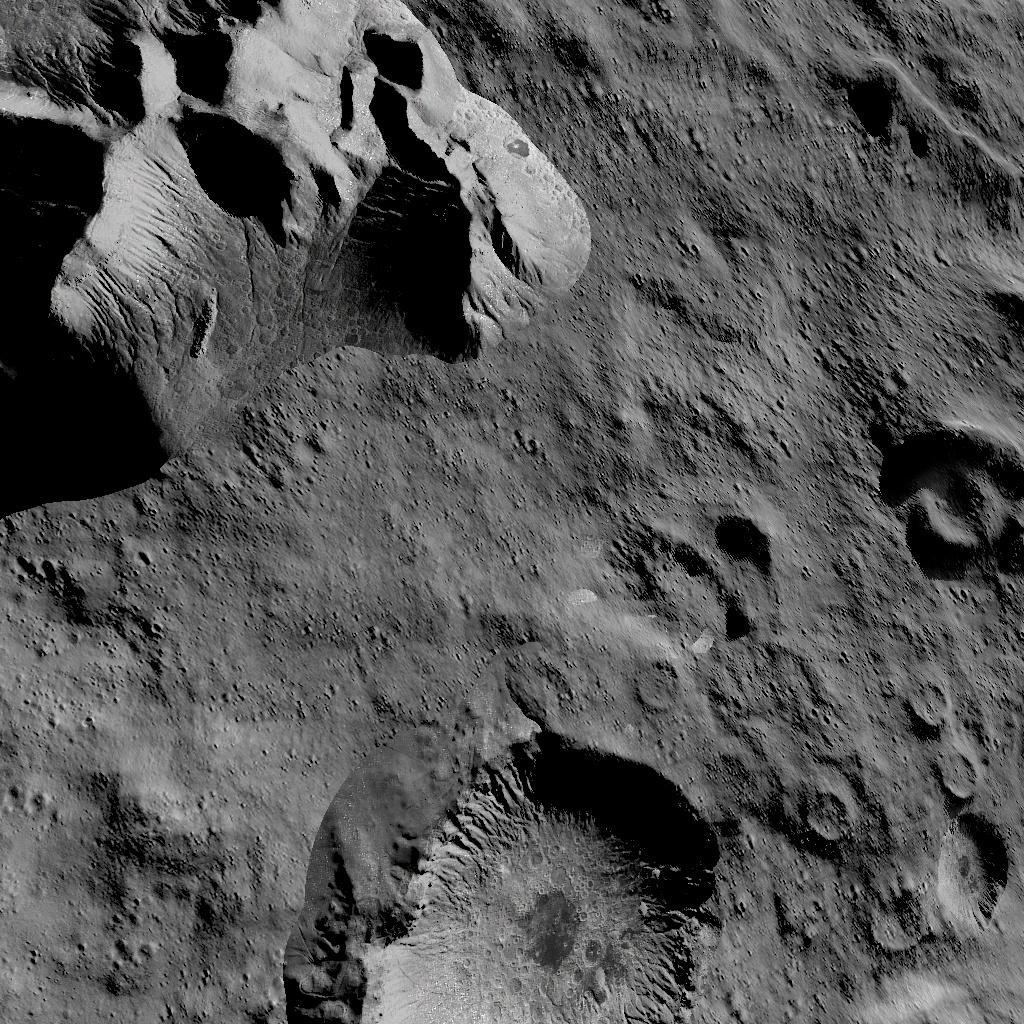Boulders: (0, 0, 596, 517)
Crater: (313, 726, 765, 1024), (872, 420, 1024, 584), (702, 510, 784, 638), (932, 812, 1016, 928), (798, 786, 862, 856), (867, 888, 924, 954), (934, 745, 995, 806), (905, 674, 969, 732), (628, 656, 692, 713)
Plan surface: (0, 530, 299, 1024), (602, 152, 997, 398), (309, 526, 616, 716)
